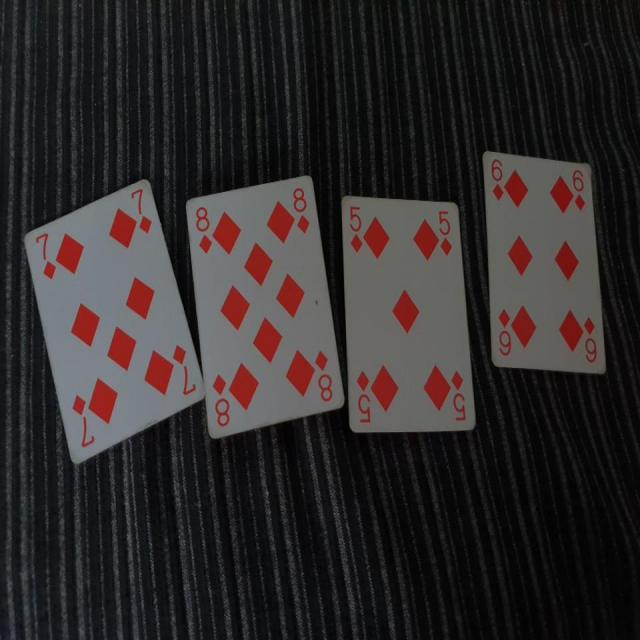5 Diamonds: (342, 184, 479, 433)
6 Diamonds: (479, 150, 606, 374)
7 Diamonds: (21, 178, 205, 461)
8 Diamonds: (186, 176, 345, 442)
